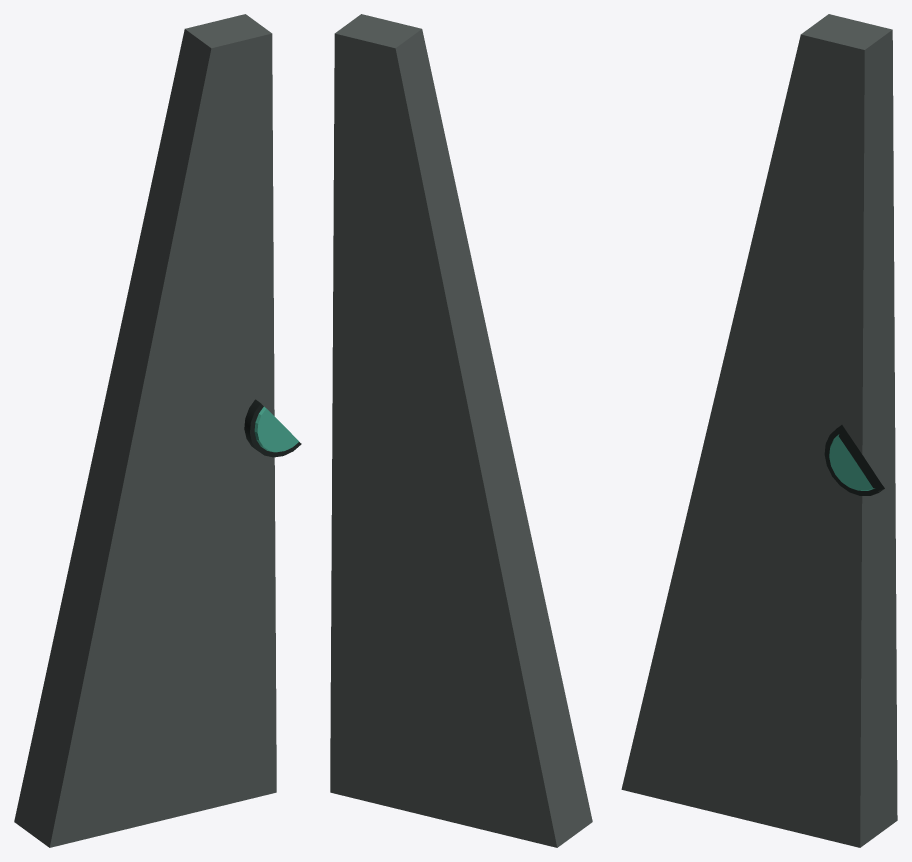
File: SmallDoorCrop_L.fbx
The picture shows the model from 3 angles, left to right: view 1: azimuth 30°, elevation 25°; view 2: azimuth 150°, elevation 25°; view 3: azimuth 330°, elevation 25°; orthographic projection. The views are drawn at different scales.
Visible parts, largest first — view 1: polySurface15; view 2: polySurface15; view 3: polySurface15.
Boxes of the visible parts, <box> form: polySurface15: <box>14,14,301,847</box>; polySurface15: <box>330,14,592,847</box>; polySurface15: <box>621,14,897,847</box>.
Bounding box in the file's own units: 6.95 × 20.18 × 1.96.
1 material, 1 textured.
